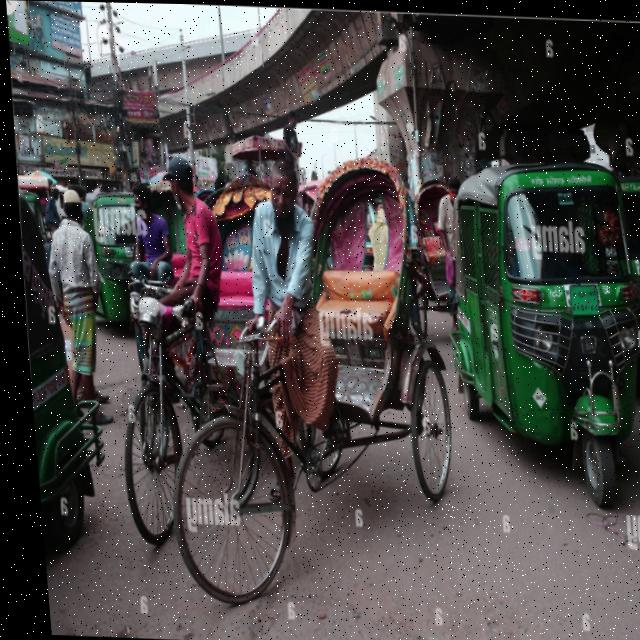cng: (448, 119, 640, 532)
rikshaw: (217, 130, 434, 606), (157, 166, 278, 518)
